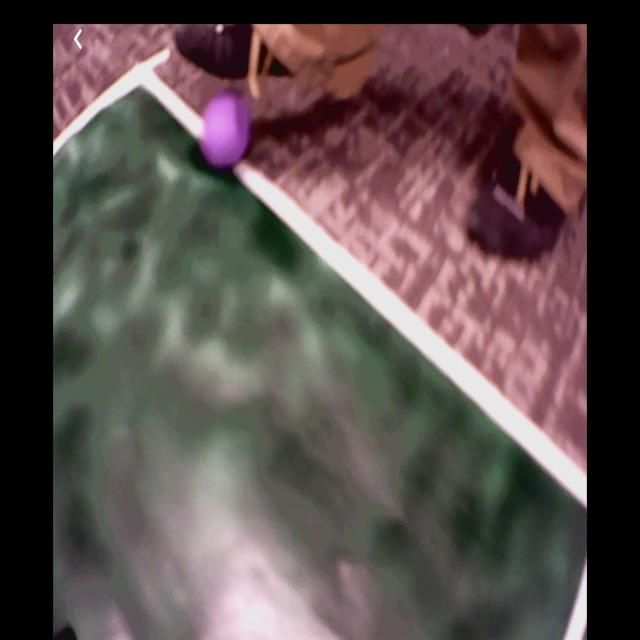ball: (203, 88, 248, 170)
